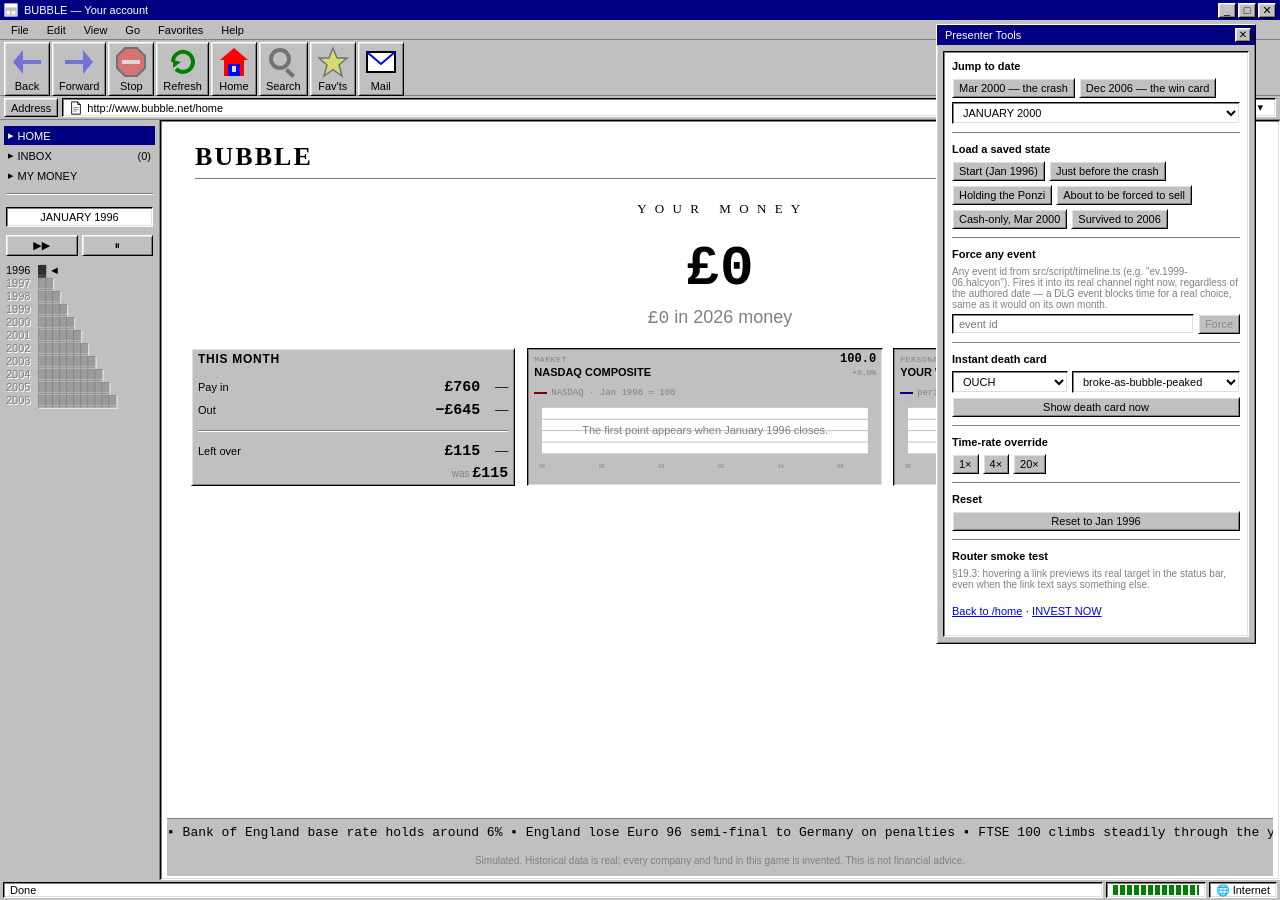
Scenario: §25.5 — the demo path, beat by beat, driven through the real AppShell › Jan 2000 — the year-turn dialog clearly explains the break-even squeeze
This screenshot has width=1280, height=900.
Select "JANUARY 2000" in the dropdown named "Jump to any month" at (1096, 113), box [952,102,1240,124]
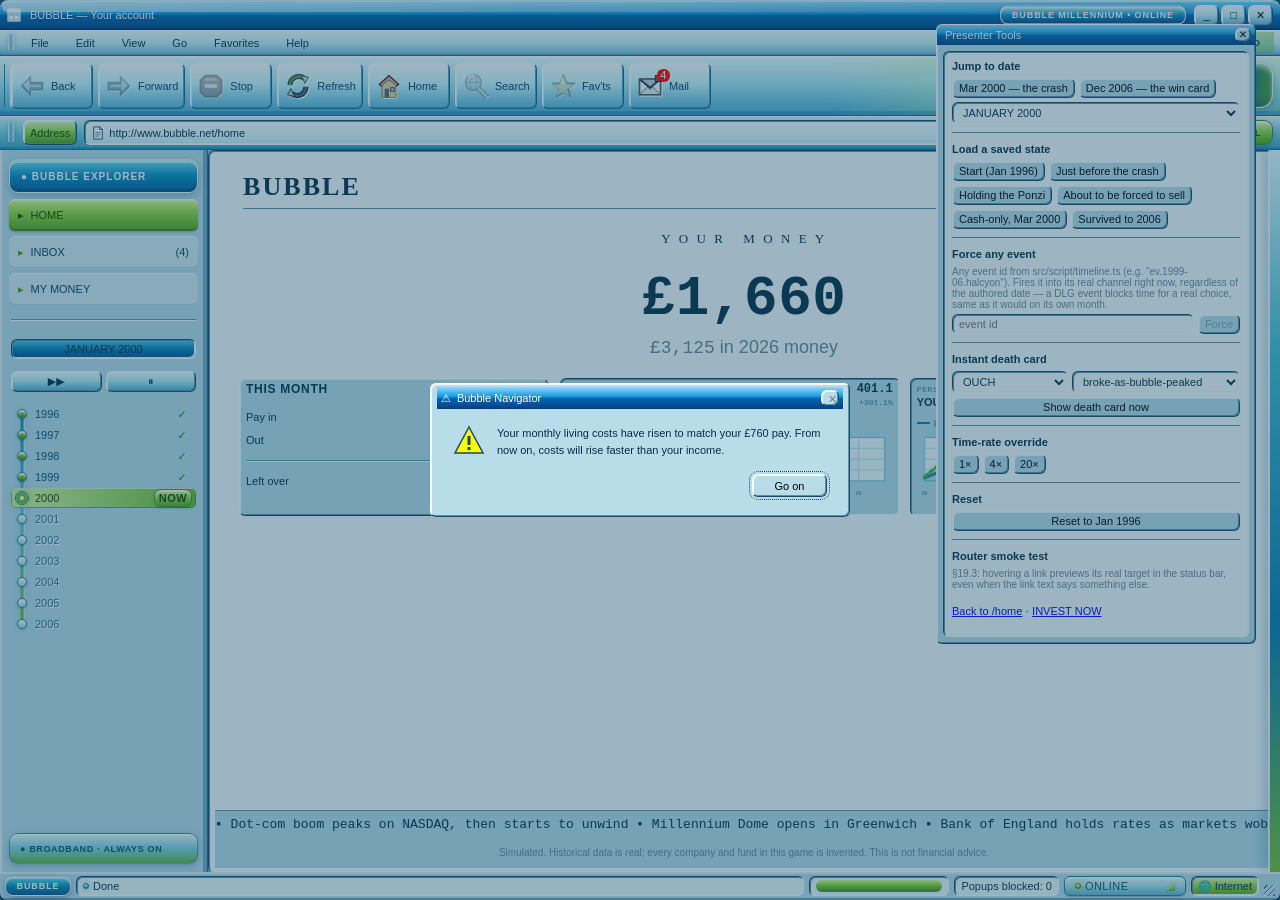
Now the dialog with class "comet-dialog" is shown, box [430,383,850,517]
Now the dialog with class "comet-dialog" shows "Your monthly living costs have risen to match your £760 pay.", box [497,427,820,456]
Click the button with class "comet-dialog__btn" at (790, 486), box [752,474,827,497]
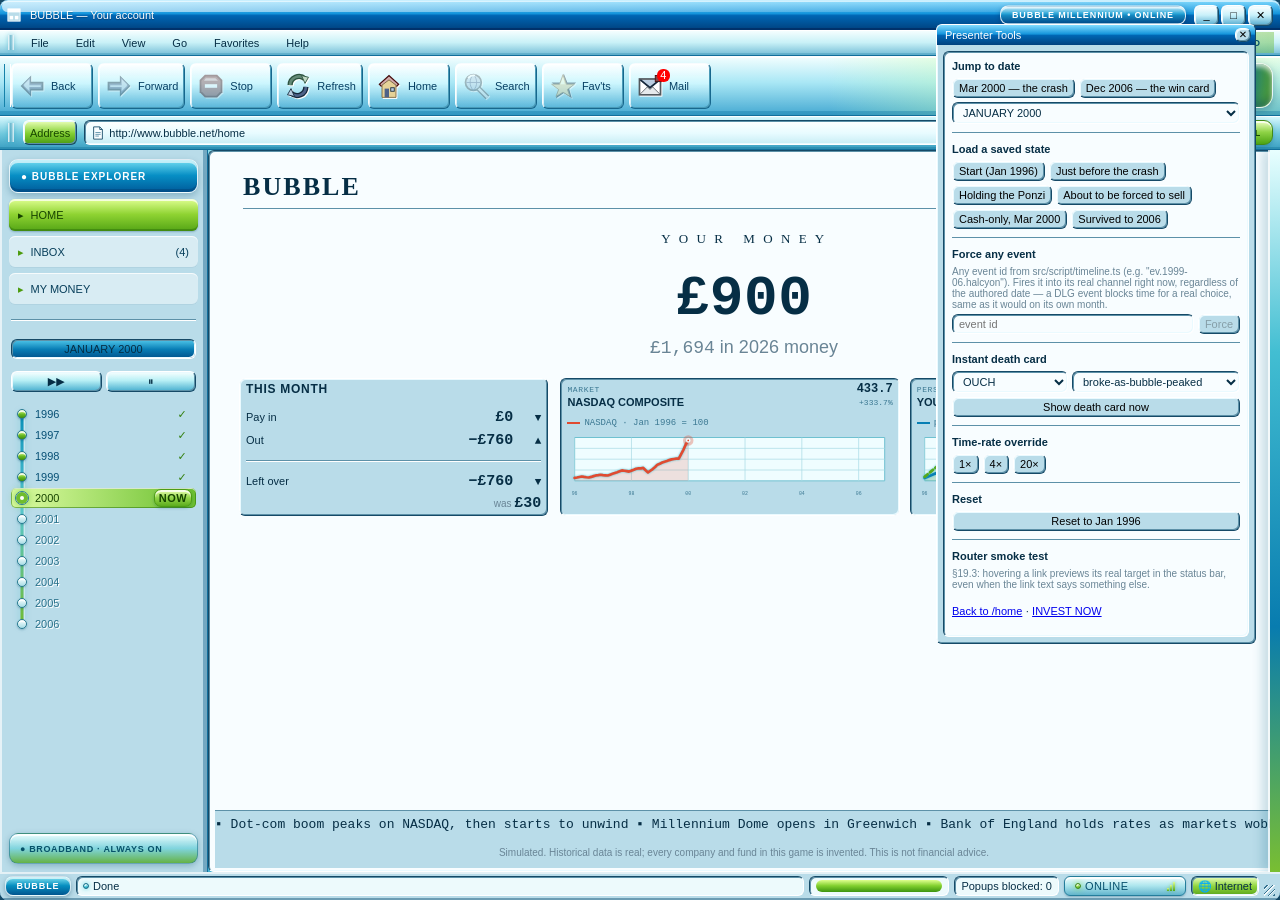
Now the dialog with class "comet-dialog" is gone
